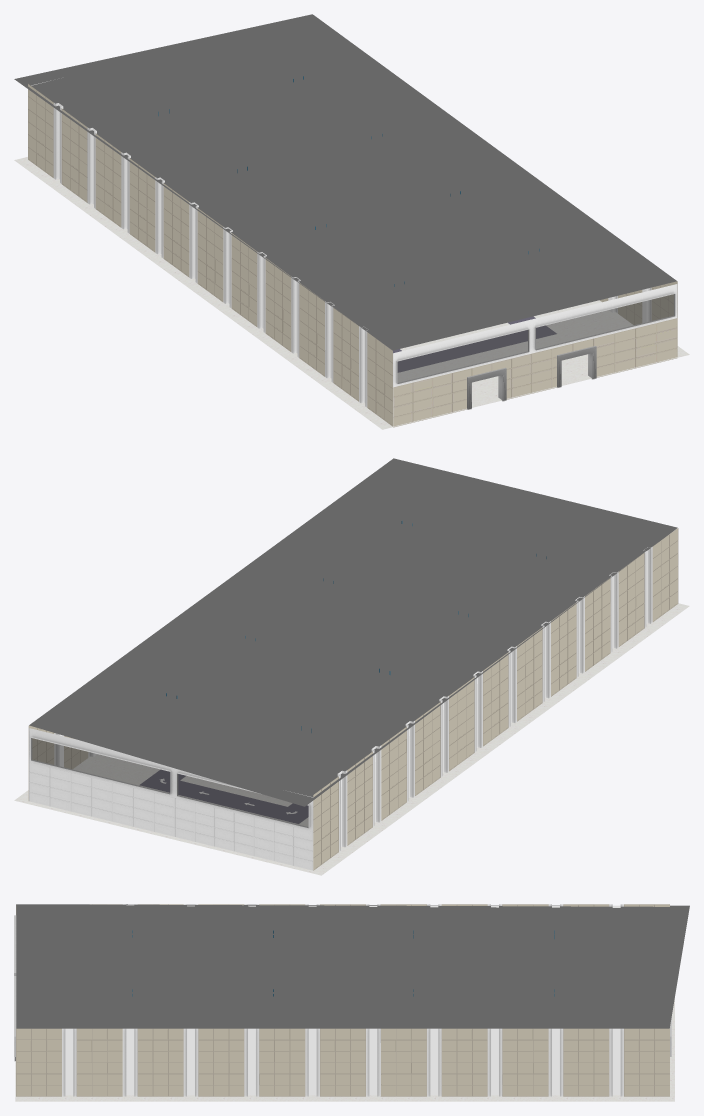
Rendered from hallreduced1__ktx2.glb.
3 views of the same model, one above another, from view 1: azimuth 30°, elevation 25°; view 2: azimuth 150°, elevation 25°; view 3: azimuth 270°, elevation 25° (orthographic). The views are drawn at different scales.
Visible parts, largest first — view 1: Plane.005, Plane.002, floor, Cube.001, Cube.029, Cube.024, Plane.001, Cube.020; view 2: Plane.005, Plane.002, Cube.028, floor, Cube.027, Cube.024, Plane.001; view 3: Plane.005, Plane.002, floor, Cube.024.
Boxes of the visible parts, <box> form: Plane.005: <box>14,14,676,350</box>; Plane.002: <box>28,84,677,426</box>; floor: <box>14,157,689,429</box>; Cube.001: <box>393,318,677,427</box>; Cube.029: <box>397,294,675,383</box>; Cube.024: <box>31,80,677,387</box>; Plane.001: <box>384,316,556,372</box>; Cube.020: <box>467,346,596,409</box>; Plane.005: <box>29,458,677,806</box>; Plane.002: <box>28,528,678,870</box>; Cube.028: <box>29,762,313,870</box>; floor: <box>14,603,689,875</box>; Cube.027: <box>31,738,308,827</box>; Cube.024: <box>29,530,674,831</box>; Plane.001: <box>140,769,308,823</box>; Plane.005: <box>16,904,689,1028</box>; Plane.002: <box>16,904,669,1096</box>; floor: <box>15,998,674,1101</box>; Cube.024: <box>14,915,671,1056</box>.
Size of the model in its own units: 79.42 by 19.71 by 169.
Materials: 16 (16 with a texture image).
